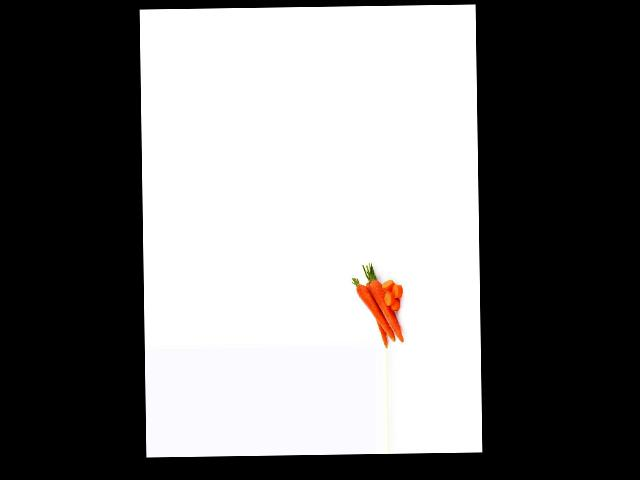carrot: (368, 274, 404, 343)
